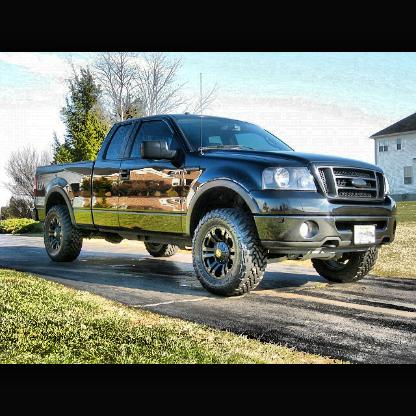Ford F-150 Regular Cab 2007: (32, 116, 399, 298)
